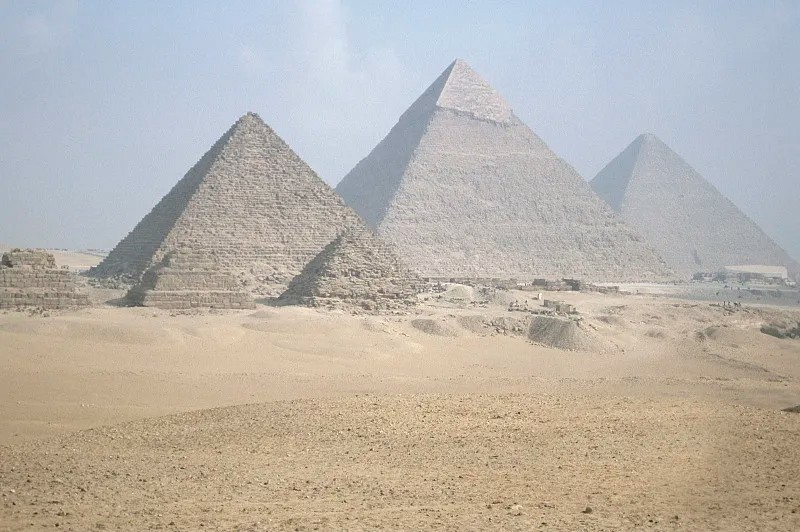Pyramid: (338, 59, 678, 280), (89, 113, 365, 290), (588, 134, 800, 277), (284, 232, 417, 306), (126, 244, 254, 310), (1, 251, 94, 309)
